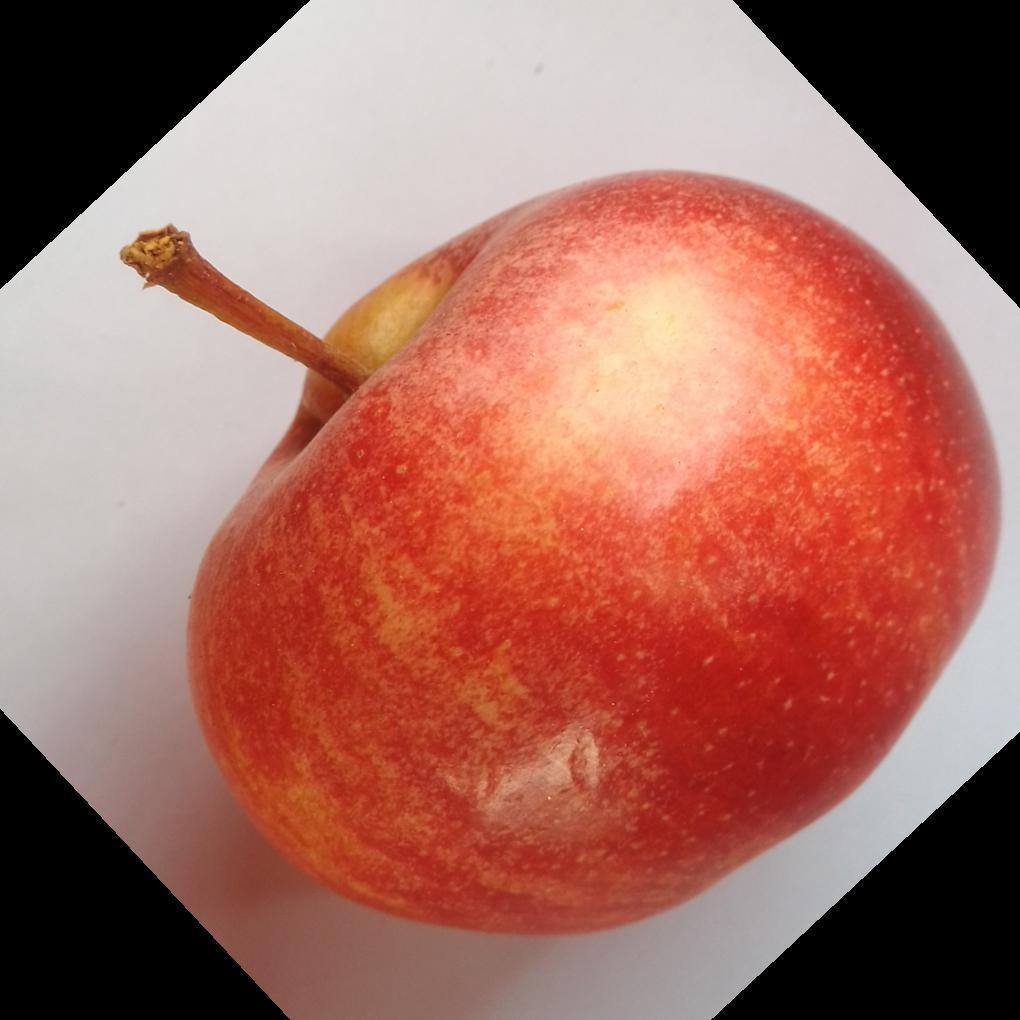FreshGuava: (184, 171, 999, 940)
